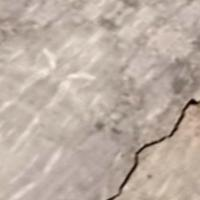crack: (106, 95, 199, 199)
